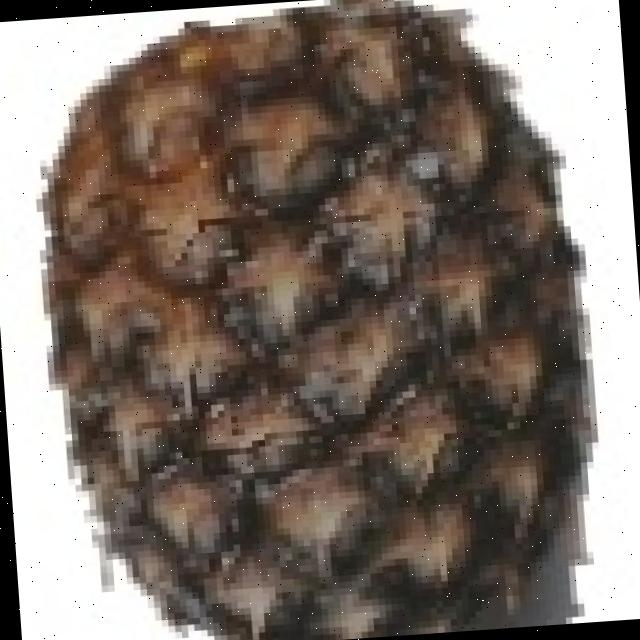pineapple: (42, 0, 592, 640)
